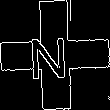N_N: (34, 29, 76, 81)
